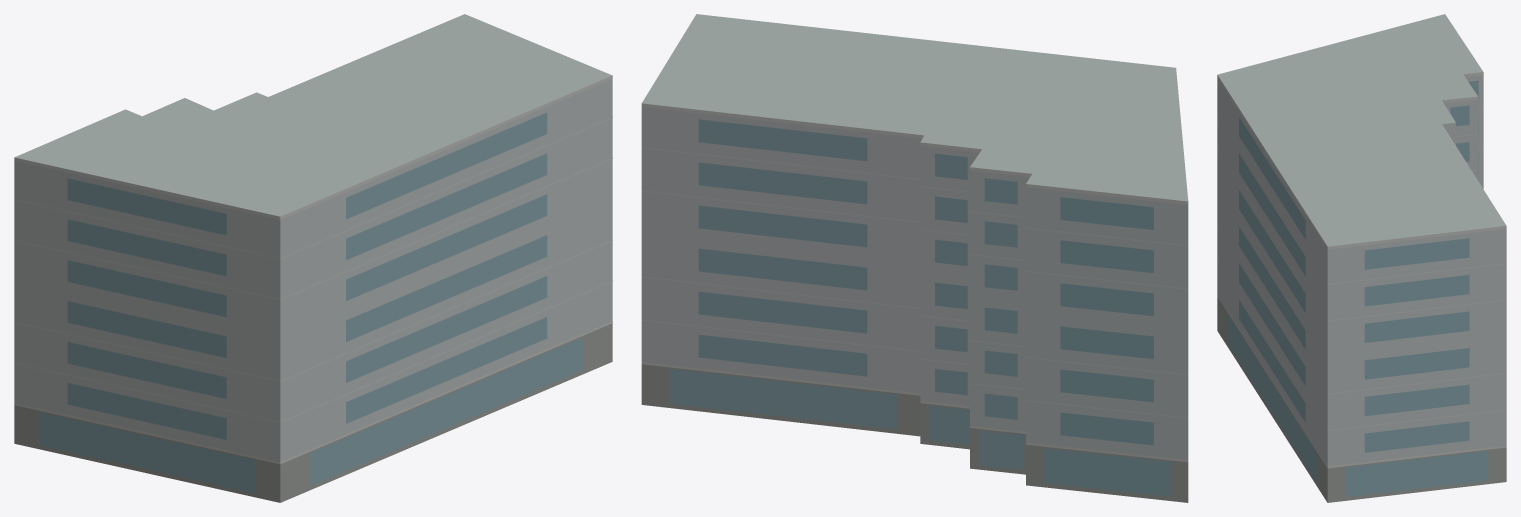
Rendered from survey-upis-32687828.glb.
3 views of the same model, side by side, from view 1: azimuth 30°, elevation 25°; view 2: azimuth 150°, elevation 25°; view 3: azimuth 270°, elevation 25° (orthographic). The views are drawn at different scales.
Visible parts, largest first — view 1: survey-upis-32687828.tmp; view 2: survey-upis-32687828.tmp; view 3: survey-upis-32687828.tmp.
Boxes of the visible parts, x1=… form: survey-upis-32687828.tmp: x1=14, y1=14, x2=612, y2=502; survey-upis-32687828.tmp: x1=641, y1=14, x2=1188, y2=502; survey-upis-32687828.tmp: x1=1217, y1=14, x2=1506, y2=502.
Size of the model in its own units: 39.56 by 20.3 by 20.79.
